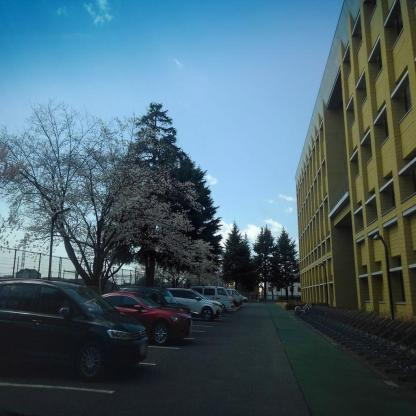Someiyoshino: (0, 92, 220, 292)
